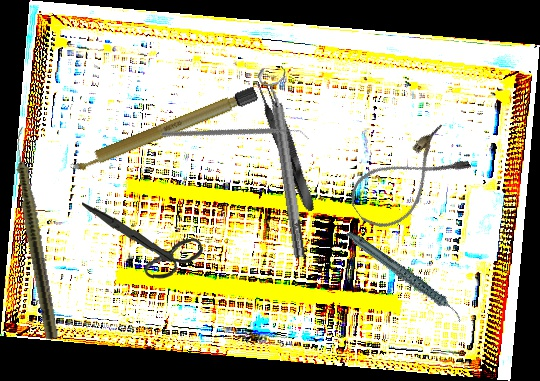Cannula: (341, 121, 475, 240)
Chopper: (160, 67, 310, 206)
Fixation Ring: (256, 65, 314, 260)
Handpiece: (345, 210, 465, 343), (7, 124, 62, 341)
Iris Scissors: (81, 195, 205, 284)
Scalpel Handle: (66, 84, 260, 176)
Tissue Forceps: (252, 78, 320, 215)
